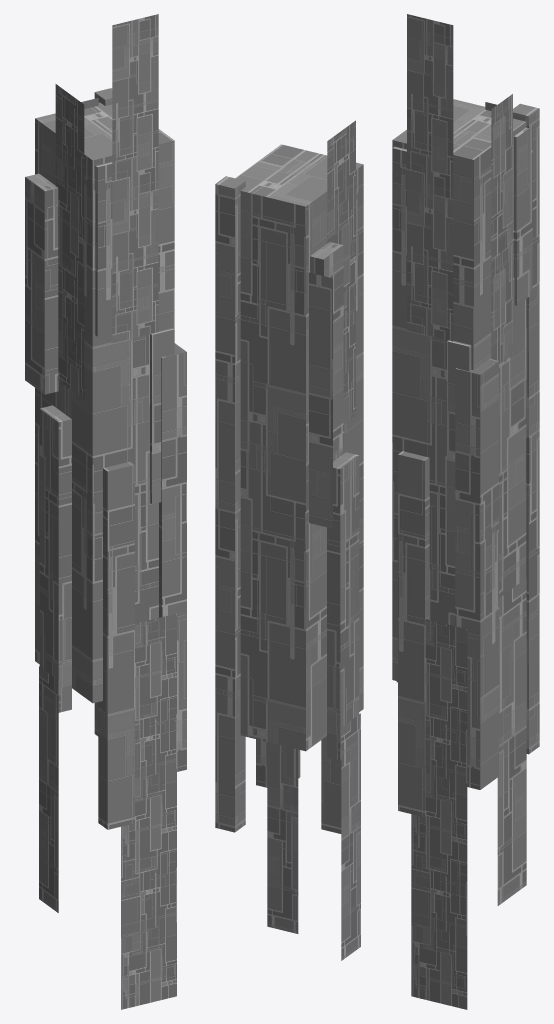
Rendered from SM_architecture_module_05.glb.
3 renders of one model, left to right at view 1: azimuth 30°, elevation 25°; view 2: azimuth 150°, elevation 25°; view 3: azimuth 330°, elevation 25°, orthographic.
Parts seen in each view (by area): view 1: SM_architecture_module_05; view 2: SM_architecture_module_05; view 3: SM_architecture_module_05.
Boxes of the visible parts, box(x1,y1,x2,y2) form: SM_architecture_module_05: box(25, 14, 186, 1009); SM_architecture_module_05: box(215, 120, 363, 960); SM_architecture_module_05: box(392, 14, 539, 1009).
Size of the model in its own units: 1.54 by 12.57 by 1.57.
Materials: 2 (2 with a texture image).
